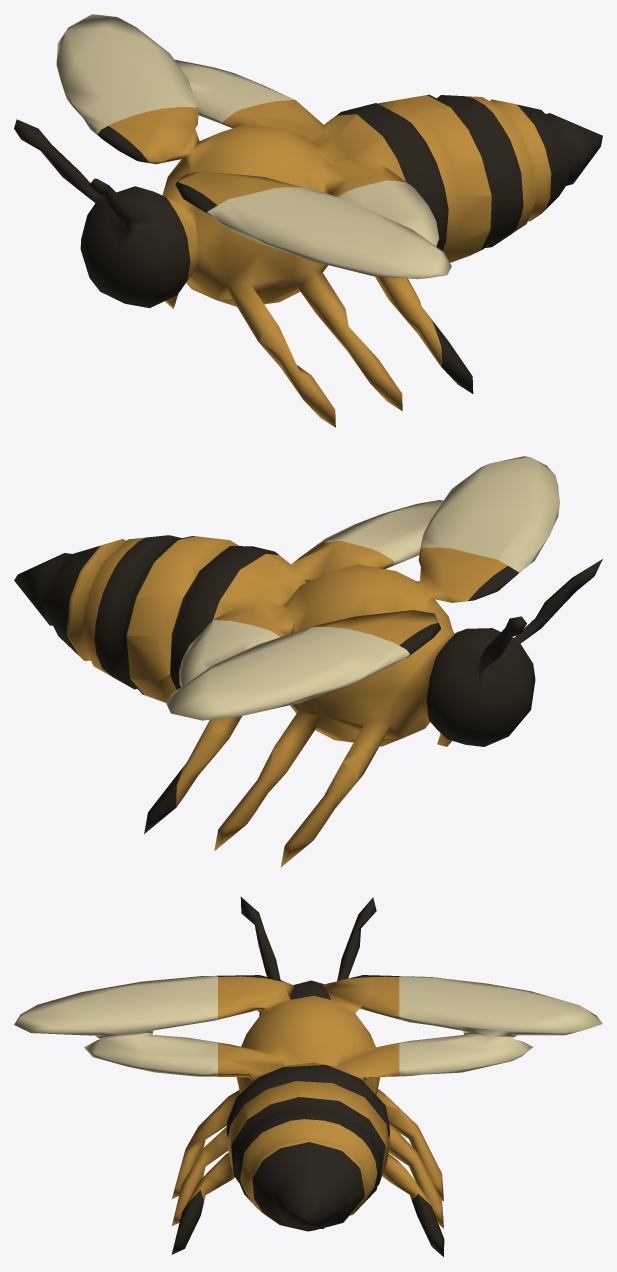
File: NEW_RECOVERY_016_LOD2.glb
3 views of the same model, one above another, from view 1: azimuth 30°, elevation 25°; view 2: azimuth 150°, elevation 25°; view 3: azimuth 270°, elevation 25° (orthographic). The views are drawn at different scales.
Parts seen in each view (by area): view 1: Bee_solid; view 2: Bee_solid; view 3: Bee_solid.
Part boxes in pixels (x1=…): Bee_solid: x1=14, y1=14, x2=602, y2=427; Bee_solid: x1=14, y1=456, x2=602, y2=867; Bee_solid: x1=14, y1=897, x2=602, y2=1256.
Size of the model in its own units: 2.97 by 1.39 by 3.31.
